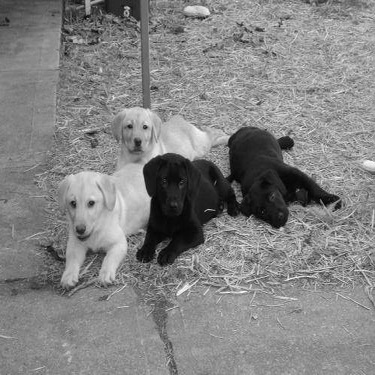dog: (47, 153, 163, 296), (136, 142, 249, 269), (221, 120, 347, 233), (102, 98, 233, 179), (359, 149, 372, 182)
